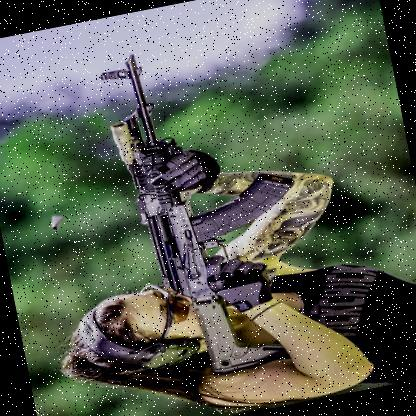rifle: (94, 30, 332, 397)
